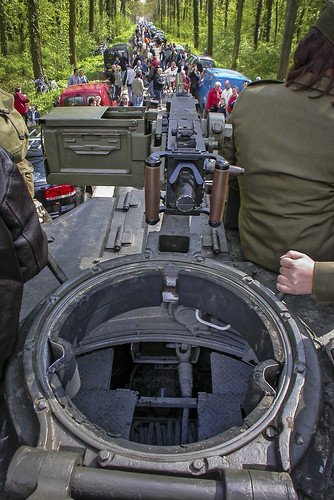soldier: (234, 16, 334, 261)
vegetation: (172, 3, 317, 84), (1, 1, 118, 83)
weapon: (53, 70, 229, 236)
